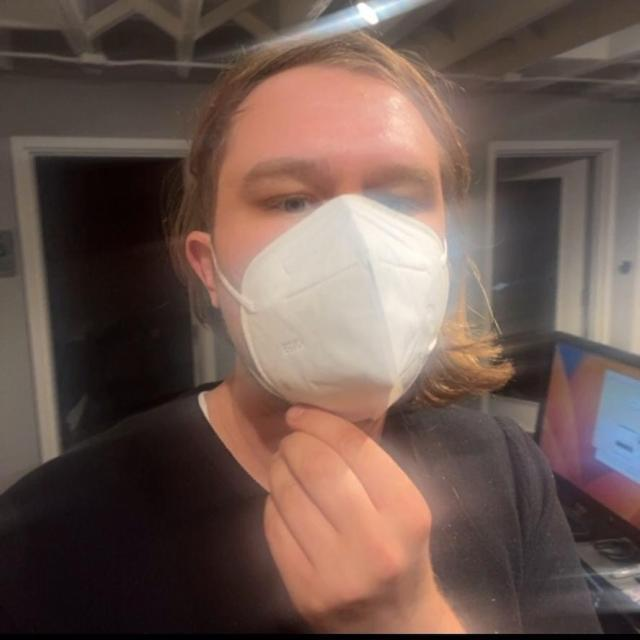no hat: (155, 24, 527, 436)
